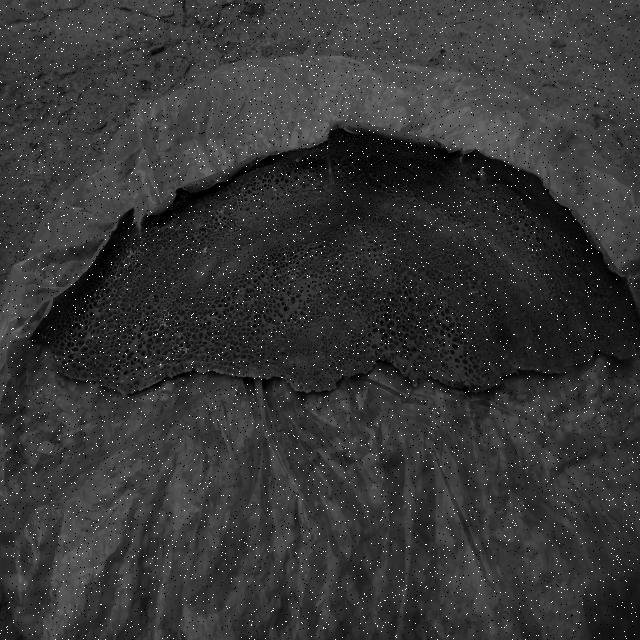injera_mold: (124, 246, 137, 265), (157, 311, 170, 330), (196, 223, 208, 236), (176, 343, 188, 356), (91, 296, 102, 306), (216, 206, 225, 217), (132, 272, 140, 284), (201, 246, 210, 256), (337, 169, 345, 180), (290, 266, 296, 280), (104, 278, 110, 289), (283, 252, 289, 262), (86, 312, 95, 318), (158, 361, 164, 370), (294, 158, 302, 164), (113, 275, 119, 282), (232, 228, 237, 236), (466, 200, 472, 206), (167, 362, 173, 368), (171, 210, 176, 217), (149, 229, 154, 236), (298, 236, 302, 244), (138, 249, 142, 257), (125, 286, 133, 290), (99, 270, 103, 278), (87, 298, 91, 306), (160, 246, 165, 252), (230, 269, 236, 274), (295, 316, 298, 325), (42, 334, 47, 339), (70, 349, 75, 354), (222, 246, 226, 252), (120, 379, 126, 383), (96, 293, 102, 297), (112, 260, 115, 267), (274, 188, 278, 193), (140, 239, 142, 249), (118, 304, 122, 309), (46, 325, 50, 330), (84, 342, 87, 348), (116, 267, 119, 273), (609, 286, 613, 290), (168, 351, 172, 355), (54, 354, 57, 359), (163, 358, 168, 361), (275, 275, 280, 278), (174, 319, 177, 324), (120, 255, 122, 262), (120, 247, 122, 253), (172, 345, 174, 351), (286, 177, 290, 180), (119, 295, 122, 299), (83, 300, 86, 304), (170, 222, 174, 225), (175, 228, 178, 232), (126, 266, 129, 270), (175, 332, 177, 337), (126, 375, 128, 380), (200, 301, 203, 304), (570, 247, 573, 250), (330, 269, 333, 272), (136, 295, 139, 298), (66, 341, 69, 344), (287, 164, 289, 168), (158, 353, 162, 355), (560, 250, 562, 254), (198, 250, 200, 254), (94, 293, 96, 297), (560, 261, 562, 264), (511, 216, 513, 219), (153, 296, 154, 300), (524, 210, 526, 212), (186, 306, 188, 308), (144, 237, 146, 239), (154, 302, 156, 304), (177, 304, 179, 306), (155, 376, 157, 378), (530, 238, 532, 240), (519, 240, 521, 242), (95, 362, 96, 366), (119, 275, 120, 279), (34, 340, 36, 342), (125, 282, 126, 286), (334, 279, 335, 282), (308, 170, 309, 173), (342, 305, 343, 307), (513, 196, 514, 198), (512, 222, 514, 222), (140, 265, 140, 270)
